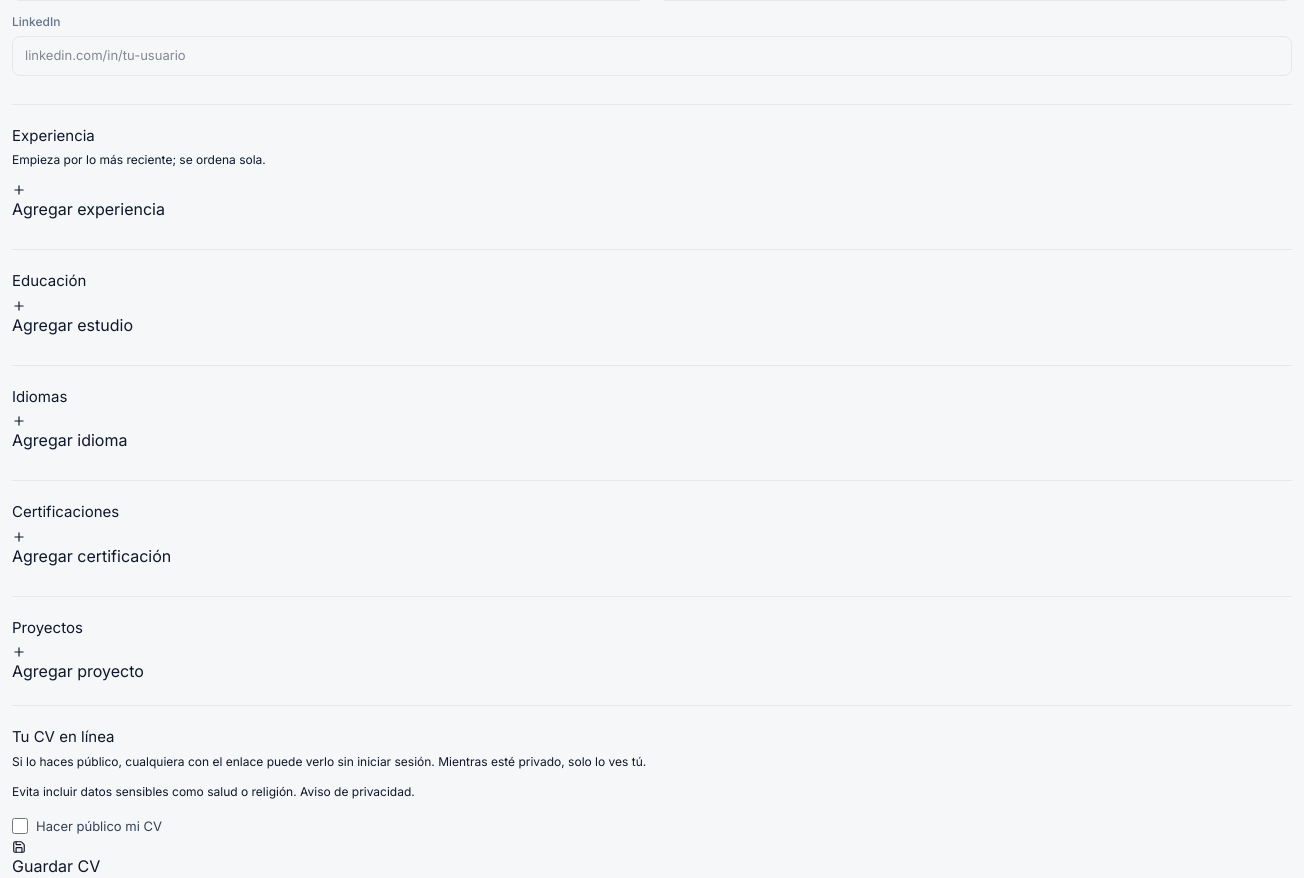
Test: CvSettings privacy › sends the public choice and then shows the link
(page scrolled)
Click the checkbox labelled "Hacer público mi CV" at (20, 826), box [12,818,28,834]
(page scrolled)
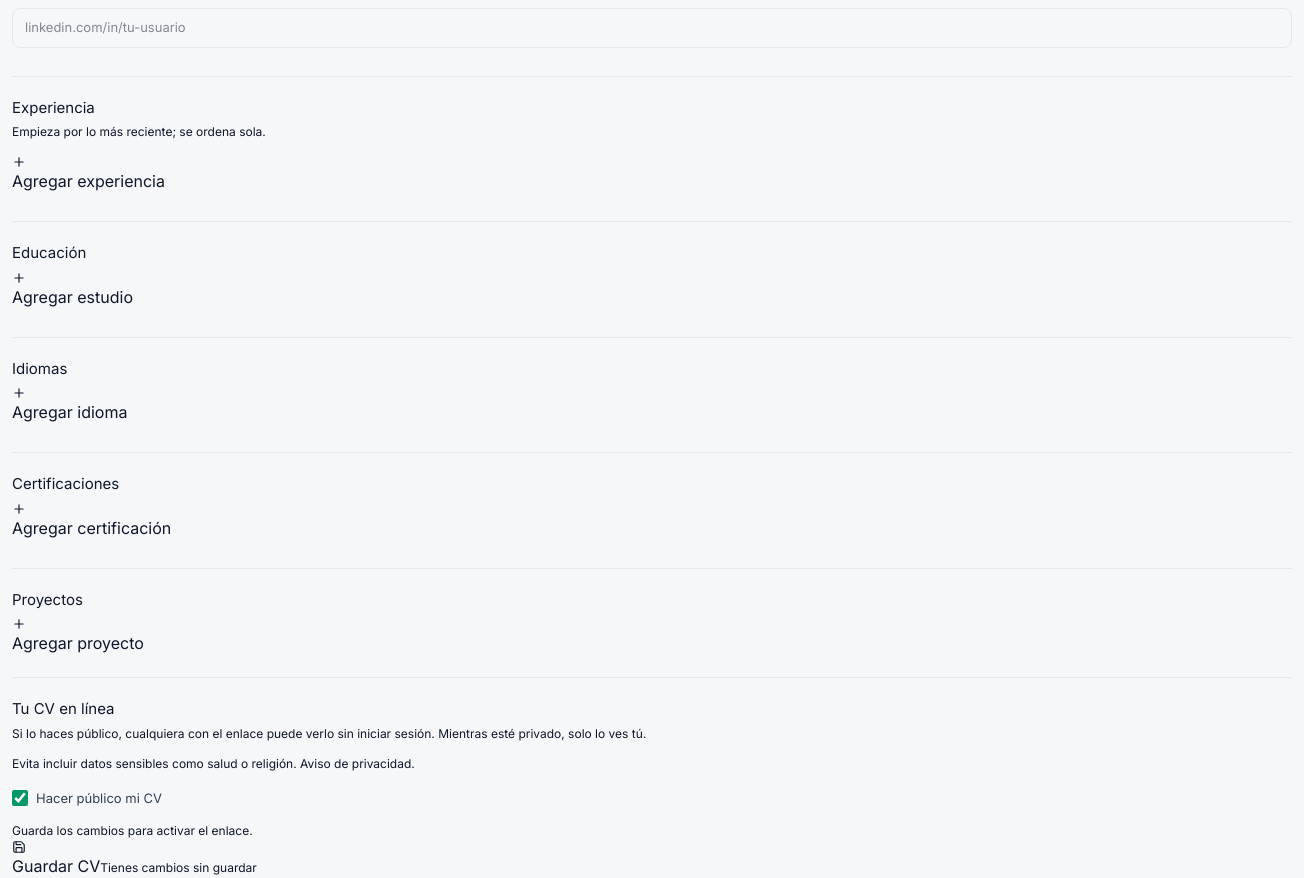
Expected: the text "Guarda los cambios para activar el enlace." is shown, [12,823,253,838]
Click the button "Guardar CV" at (56, 859), box [12,840,100,877]
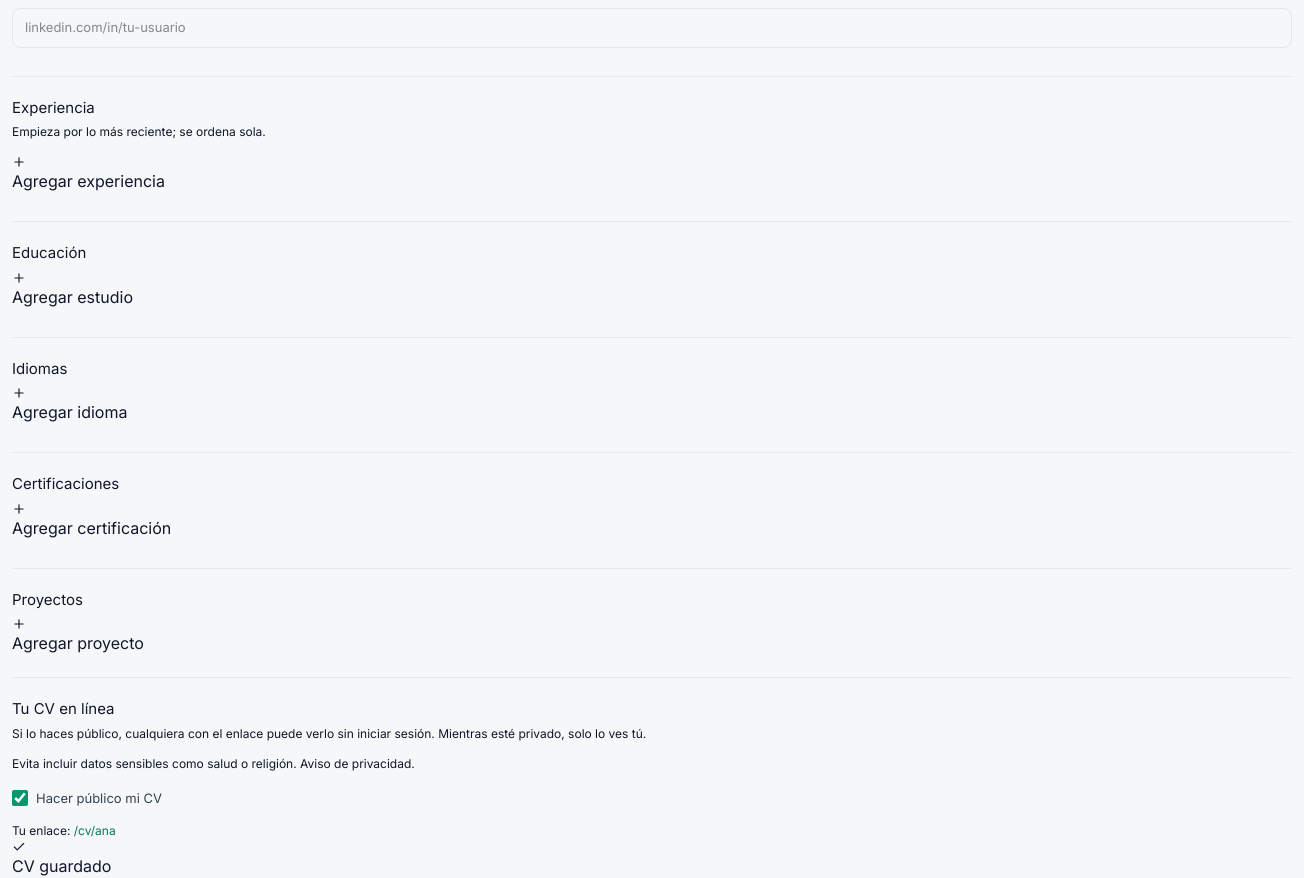
Expected: the text "Tu enlace: /cv/ana" is shown, [12,823,116,838]
